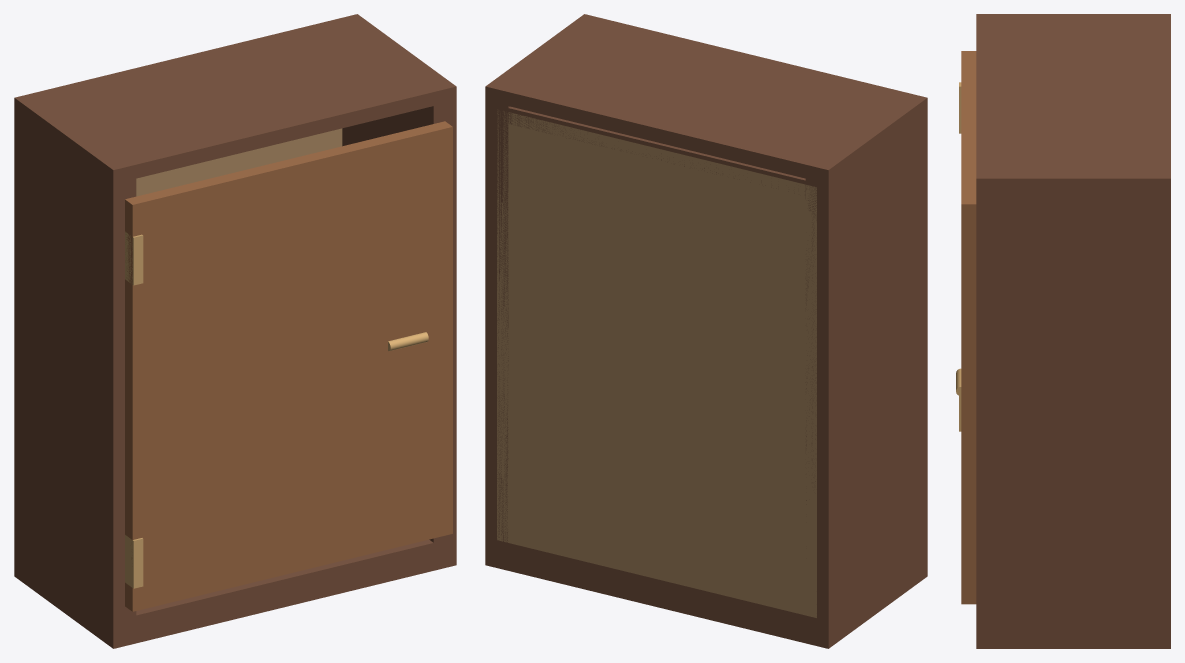
3 views of the same model, side by side, from view 1: azimuth 30°, elevation 25°; view 2: azimuth 150°, elevation 25°; view 3: azimuth 270°, elevation 25° (orthographic).
Parts seen in each view (by area): view 1: cabinet-door-leaf, cabinet-side-left, cabinet-top, cabinet-bottom, cabinet-side-right, cabinet-inner-back, door-hinge-lower, door-hinge-upper; view 2: cabinet-inner-back, cabinet-side-left, cabinet-top, cabinet-bottom, cabinet-side-right, cabinet-back-rail; view 3: cabinet-side-right, cabinet-top, cabinet-door-leaf, cabinet-bottom.
Boxes of the visible parts, bbox=[...] form: cabinet-door-leaf: bbox=[125, 121, 452, 611]; cabinet-side-left: bbox=[14, 110, 136, 628]; cabinet-top: bbox=[14, 14, 456, 183]; cabinet-bottom: bbox=[14, 537, 456, 648]; cabinet-side-right: bbox=[342, 100, 456, 549]; cabinet-inner-back: bbox=[136, 128, 342, 196]; door-hinge-lower: bbox=[125, 535, 143, 588]; door-hinge-upper: bbox=[125, 231, 143, 285]; cabinet-inner-back: bbox=[497, 109, 816, 617]; cabinet-side-left: bbox=[805, 110, 927, 628]; cabinet-top: bbox=[485, 14, 927, 183]; cabinet-bottom: bbox=[485, 537, 927, 648]; cabinet-side-right: bbox=[485, 98, 509, 550]; cabinet-back-rail: bbox=[497, 106, 816, 197]; cabinet-side-right: bbox=[976, 190, 1170, 629]; cabinet-top: bbox=[976, 14, 1170, 192]; cabinet-door-leaf: bbox=[961, 51, 976, 604]; cabinet-bottom: bbox=[976, 621, 1170, 648].
Size of the model in its own units: 0.9 by 1.2 by 0.497.
